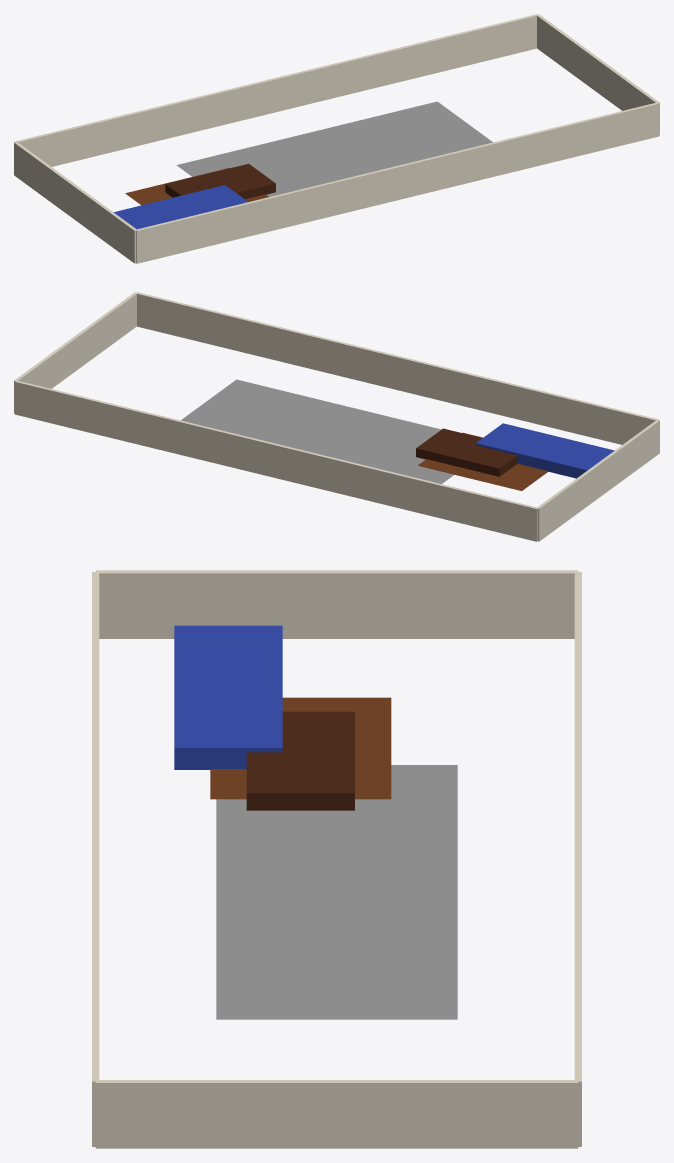
The model's file is boq_professional_7be22e72-8c9a-4420-b3a2-24e023c56013.obj.
3 views of the same model, one above another, from view 1: azimuth 30°, elevation 25°; view 2: azimuth 150°, elevation 25°; view 3: azimuth 270°, elevation 25° (orthographic). The views are drawn at different scales.
Visible parts, largest first — view 1: ExteriorWall_South, ExteriorWall_North, Foundation, ExteriorWall_West, ExteriorWall_East, Sofa_modern_living_room, CoffeeTable_modern_living_room, Floor_modern_living_room; view 2: ExteriorWall_North, ExteriorWall_South, Foundation, ExteriorWall_West, Sofa_modern_living_room, ExteriorWall_East, CoffeeTable_modern_living_room, Floor_modern_living_room; view 3: Foundation, ExteriorWall_East, ExteriorWall_West, Sofa_modern_living_room, CoffeeTable_modern_living_room, Floor_modern_living_room, ExteriorWall_North, ExteriorWall_South.
Boxes of the visible parts, x1,y1,x2,y2 form: ExteriorWall_South: (136, 102, 659, 263); ExteriorWall_North: (14, 14, 537, 166); Foundation: (176, 101, 492, 196); ExteriorWall_West: (14, 142, 136, 263); ExteriorWall_East: (536, 14, 659, 135); Sofa_modern_living_room: (113, 185, 248, 229); CoffeeTable_modern_living_room: (165, 163, 275, 199); Floor_modern_living_room: (125, 168, 268, 205); ExteriorWall_North: (14, 381, 537, 541); ExteriorWall_South: (135, 292, 659, 444); Foundation: (181, 379, 453, 483); ExteriorWall_West: (537, 420, 659, 541); Sofa_modern_living_room: (476, 423, 614, 478); ExteriorWall_East: (14, 292, 136, 413); CoffeeTable_modern_living_room: (416, 428, 517, 476); Floor_modern_living_room: (418, 432, 548, 490); Foundation: (216, 765, 457, 1019); ExteriorWall_East: (95, 1080, 578, 1148); ExteriorWall_West: (95, 570, 578, 638); Sofa_modern_living_room: (174, 625, 282, 769); CoffeeTable_modern_living_room: (246, 711, 354, 810); Floor_modern_living_room: (210, 697, 391, 799); ExteriorWall_North: (574, 572, 581, 1146); ExteriorWall_South: (92, 572, 99, 1146).
Bounding box in the file's own units: 50.3 × 3 × 20.3.
